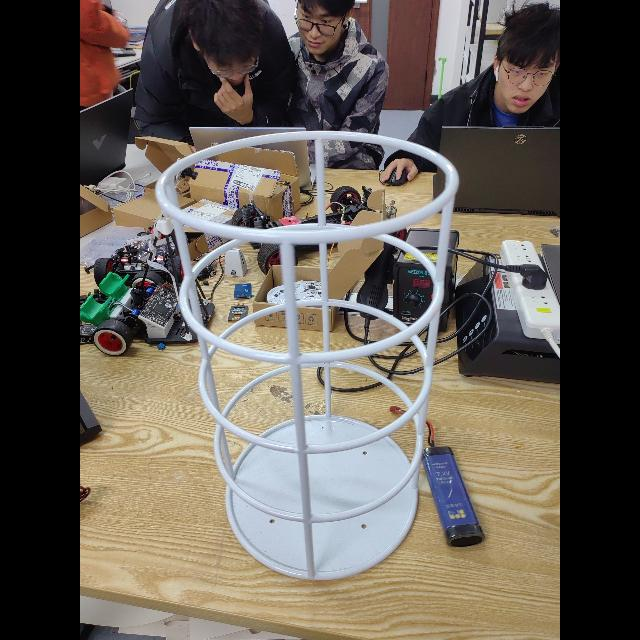S: (152, 128, 464, 586)
